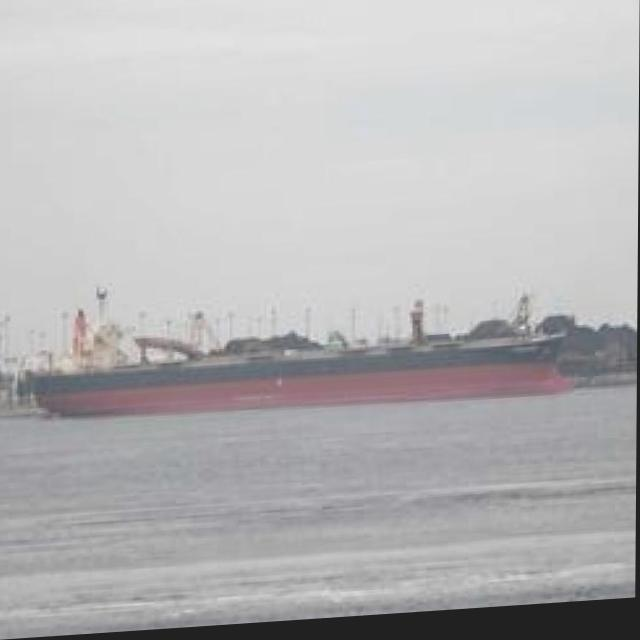ship2: (24, 301, 572, 424)
